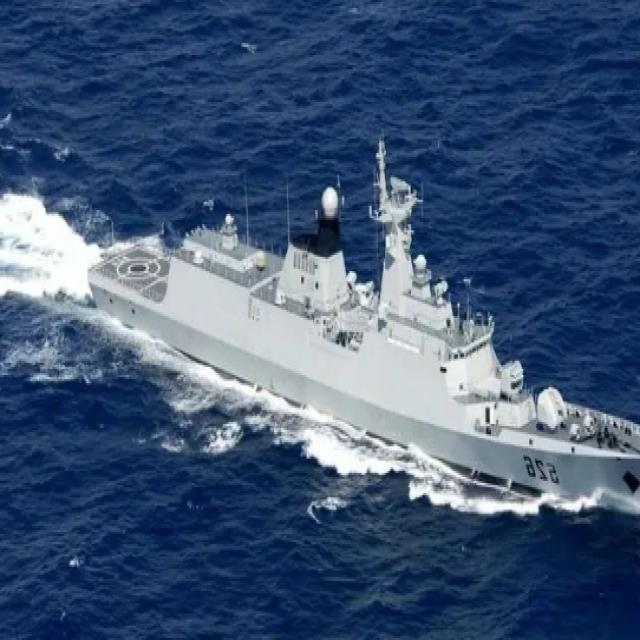navalvessels: (81, 110, 640, 526)
